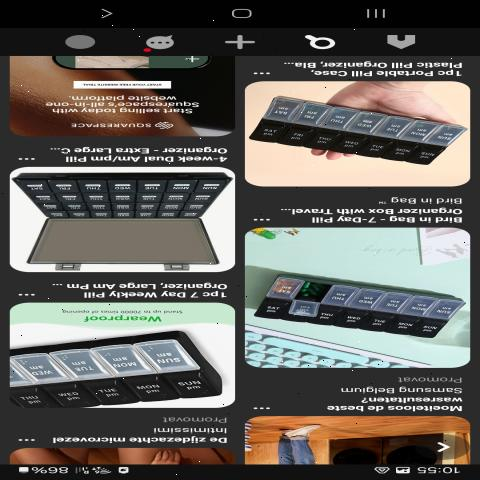PillBox: (234, 262, 466, 352), (3, 318, 218, 412), (238, 87, 467, 171), (24, 165, 222, 228)
